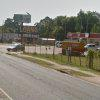Car: (6, 38, 23, 55)
